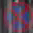No Stopping: (1, 0, 32, 31)
